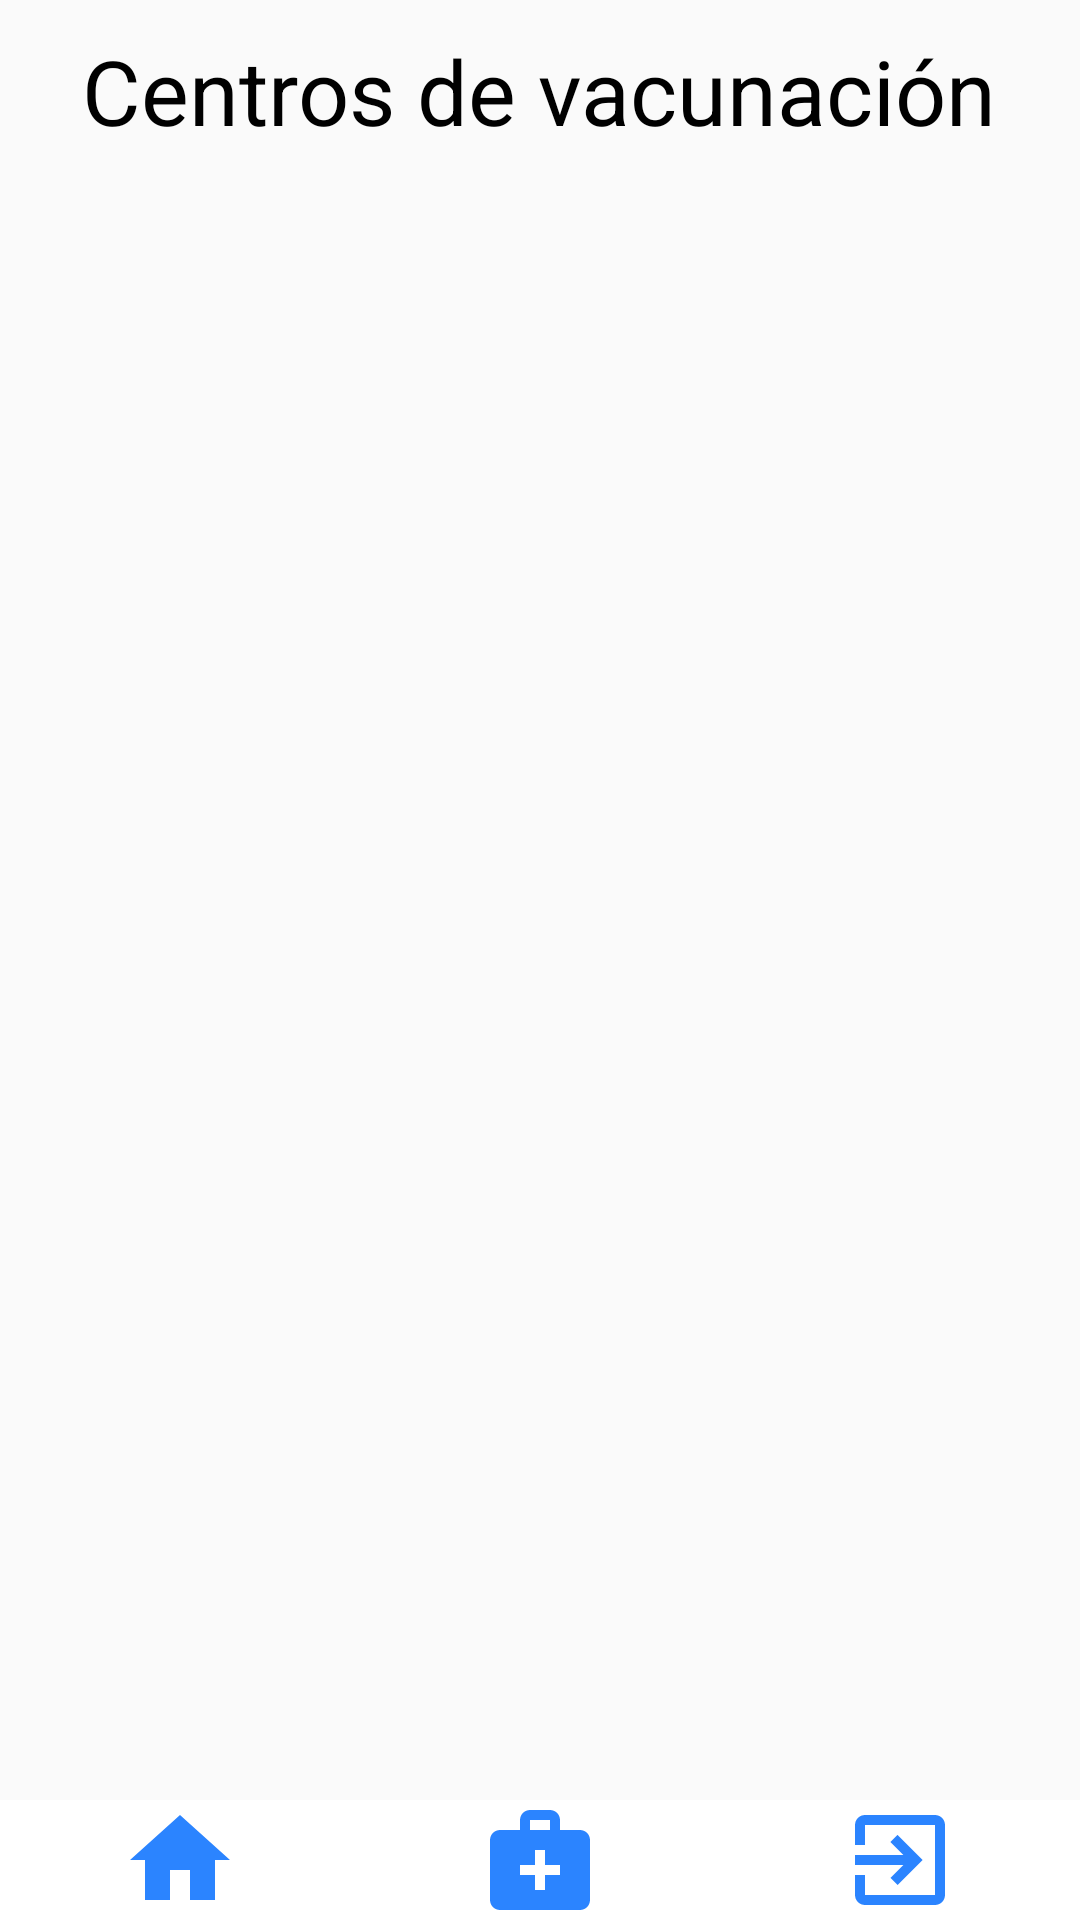

Point at icon controls on the screen. Image size 1080w x 1920h, points as (x,y).
exit to app: (900,1860)
home: (180,1857)
medical services: (540,1860)
